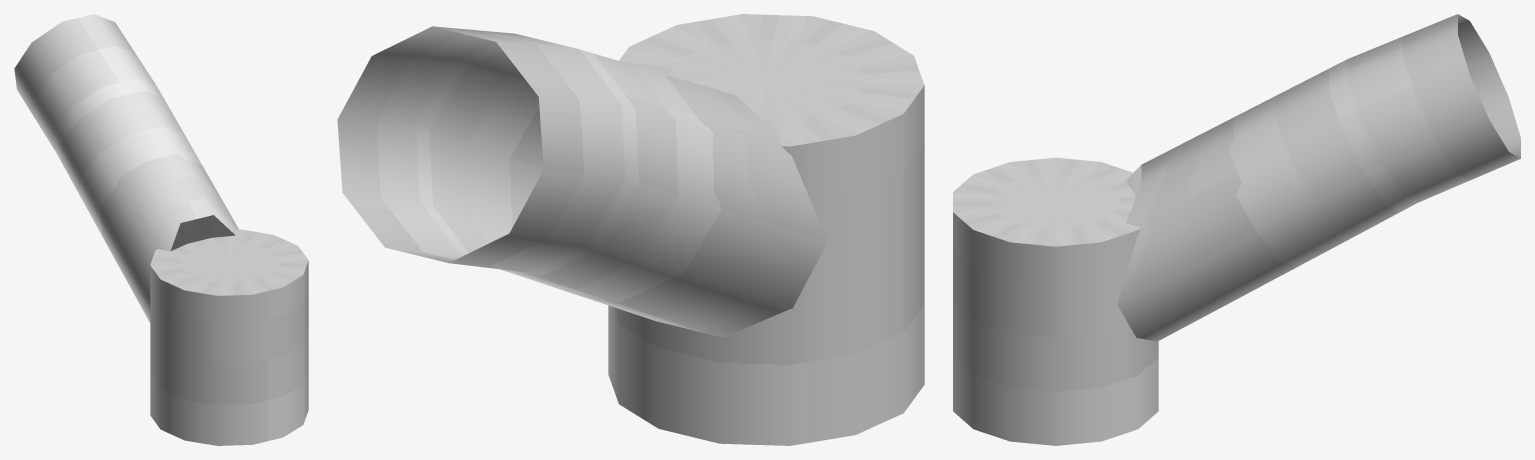
The model's file is nycsignalarm_regular6_c1_pedestal.obj.
3 views of the same model, side by side, from view 1: azimuth 30°, elevation 25°; view 2: azimuth 150°, elevation 25°; view 3: azimuth 270°, elevation 25° (orthographic). The views are drawn at different scales.
Visible parts, largest first — view 1: nycsignalarm_regular6_c1_pedestal; view 2: nycsignalarm_regular6_c1_pedestal; view 3: nycsignalarm_regular6_c1_pedestal.
Part boxes in pixels (x1,y1,x2,y2): nycsignalarm_regular6_c1_pedestal: (14, 14, 308, 445); nycsignalarm_regular6_c1_pedestal: (337, 14, 924, 445); nycsignalarm_regular6_c1_pedestal: (953, 14, 1520, 445).
Bounding box in the file's own units: 0.4438 × 0.8753 × 1.19.
